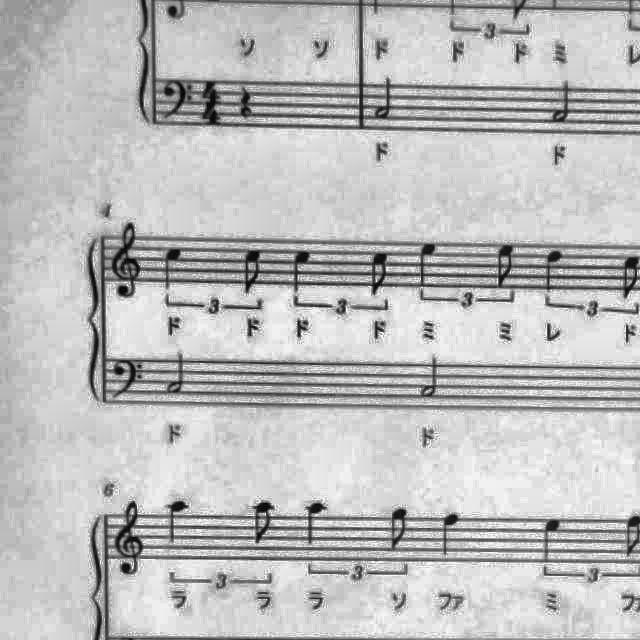Bass-clef: (108, 352, 150, 403), (157, 72, 196, 121)
Eighth-note: (237, 244, 270, 300), (245, 498, 279, 550), (490, 240, 522, 292), (363, 248, 395, 300), (384, 502, 414, 554), (616, 250, 640, 306)
Half-note: (548, 76, 580, 128), (414, 352, 446, 401), (368, 70, 398, 122), (163, 346, 193, 398)
Quarter-note: (161, 496, 195, 548), (434, 508, 466, 562), (410, 237, 442, 291), (285, 245, 317, 298), (538, 512, 568, 568), (300, 498, 332, 550), (536, 244, 568, 296), (159, 244, 189, 296)
Quarter-rest: (234, 81, 258, 122)
Treble-clef: (107, 220, 149, 304), (112, 495, 152, 581)
